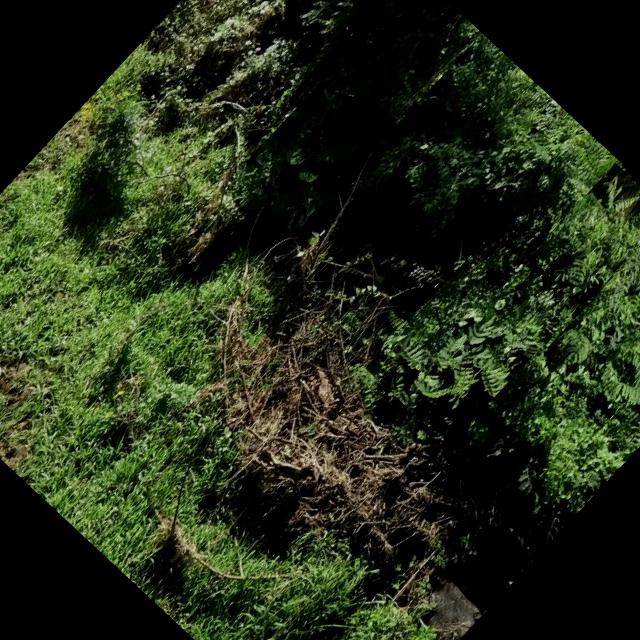Mysore-Thorn-Weed: (232, 0, 482, 234), (365, 213, 593, 446), (380, 65, 583, 269), (532, 212, 640, 449), (527, 163, 640, 307)
